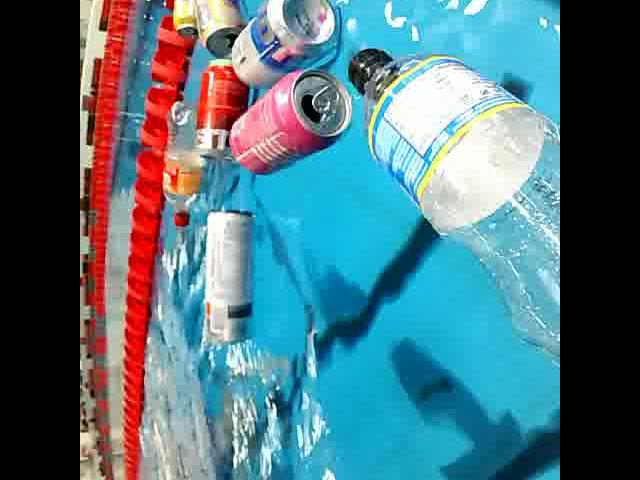Bottle: (342, 46, 560, 376), (160, 92, 207, 232)
Can: (231, 60, 359, 176), (227, 0, 347, 86), (198, 200, 258, 354), (188, 53, 254, 163), (191, 0, 243, 59), (171, 0, 205, 46)
